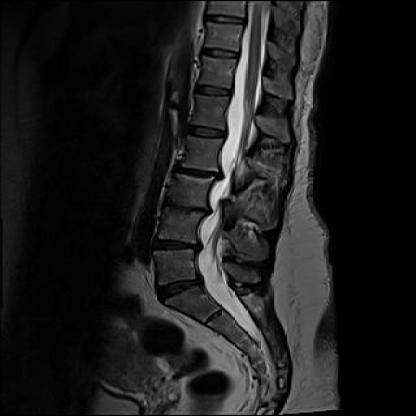Degenerative Disc Diseaserotation: (158, 278, 203, 301), (176, 162, 219, 182), (165, 199, 208, 217)
Disc Herniationrotation: (175, 164, 219, 180), (157, 238, 196, 255), (166, 200, 207, 216)
